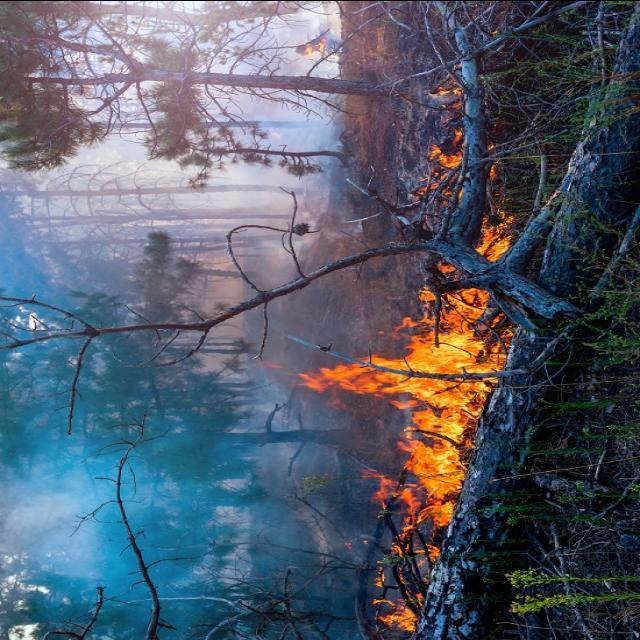Fire: (280, 50, 558, 632)
